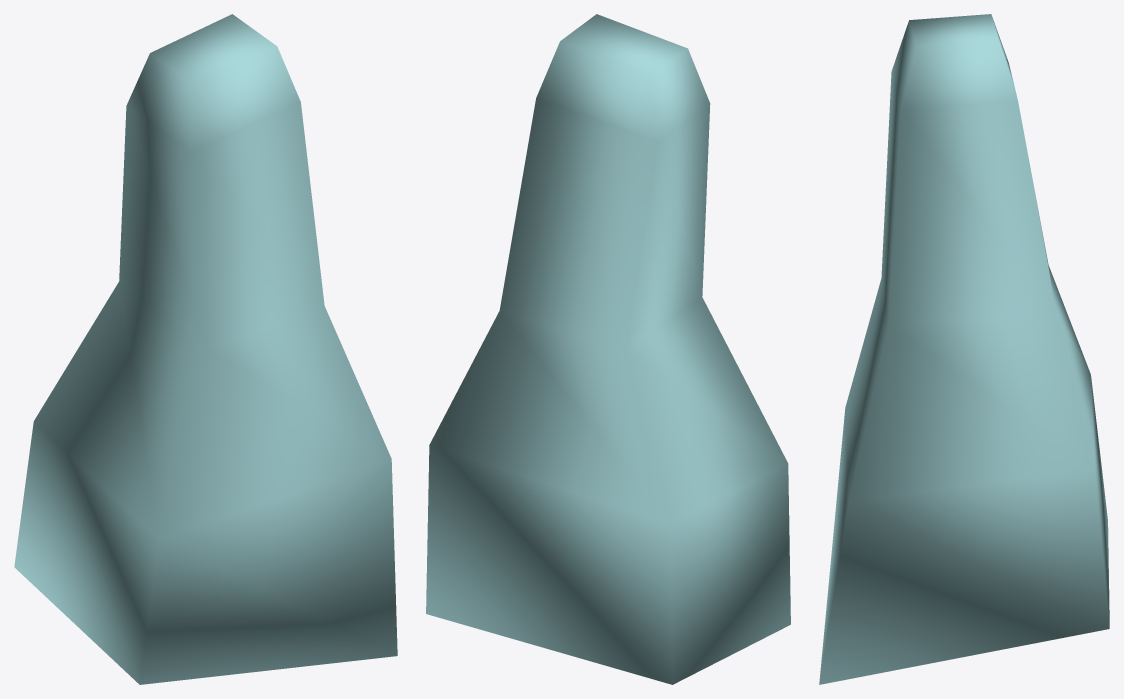
File: Skelly_f_ring.03.R.fbx
3 views of the same model, side by side, from view 1: azimuth 30°, elevation 25°; view 2: azimuth 150°, elevation 25°; view 3: azimuth 270°, elevation 25° (orthographic).
Visible parts, largest first — view 1: Skelly_f_ring.03.R; view 2: Skelly_f_ring.03.R; view 3: Skelly_f_ring.03.R.
Boxes of the visible parts, box(x1,y1,x2,y2) form: Skelly_f_ring.03.R: box(14, 14, 397, 684); Skelly_f_ring.03.R: box(426, 14, 790, 684); Skelly_f_ring.03.R: box(819, 14, 1109, 684).
Bounding box in the file's own units: 1.14 × 2.6 × 1.13.
